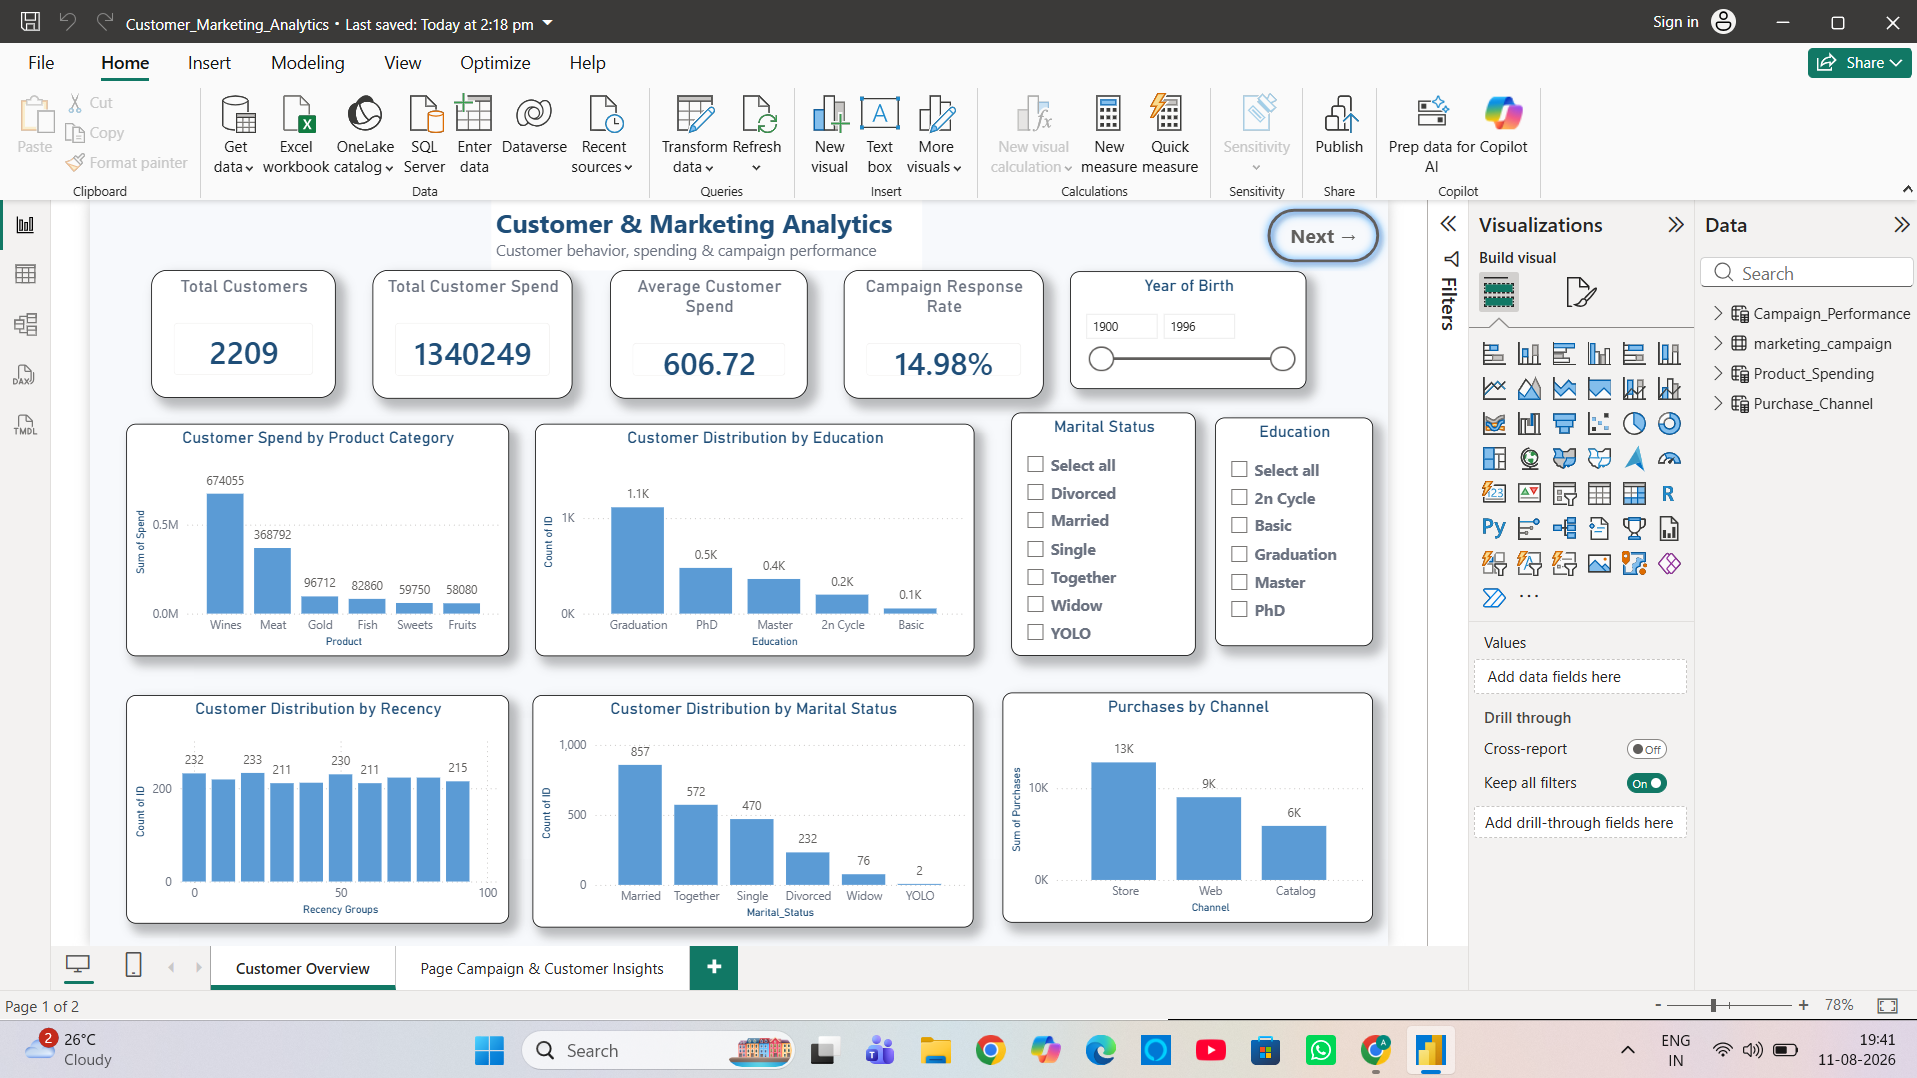

This screenshot's page, from the dashboard's own definition file:
{"tool":"powerbi","page":{"name":"Customer Overview","canvas":[1340,770],"ordinal":0},"visuals":[{"type":"textbox","box":[413.6,0,444.9,72.5],"z":0},{"type":"cardVisual","title":"Total Customers","fields":{"Data":["marketing_campaign.Total Customers"]},"box":[62.6,72.5,190.4,131.9],"z":1000},{"type":"cardVisual","title":"Average Customer Spend","fields":{"Data":["marketing_campaign.Average Customer Spend"]},"box":[537.2,72.5,204,133.1],"z":2000},{"type":"cardVisual","title":"Total Customer Spend","fields":{"Data":["marketing_campaign.Total Customer Spend"]},"box":[291.7,72.5,206.5,133.1],"z":3000},{"type":"cardVisual","title":"Campaign Response Rate","fields":{"Data":["marketing_campaign.Campaign Response Rate"]},"box":[777.8,72.5,206.5,133.1],"z":4000},{"type":"clusteredColumnChart","title":"Customer Spend by Product Category","fields":{"Category":["Product_Spending.Product"],"Y":["Sum(Product_Spending.Spend)"]},"box":[38,231.2,395,239.8],"z":5000},{"type":"clusteredColumnChart","title":"Customer Distribution by Education","fields":{"Category":["marketing_campaign.Education"],"Y":["CountNonNull(marketing_campaign.ID)"]},"box":[458.9,231.2,453.7,239.8],"z":6000},{"type":"clusteredColumnChart","title":"Customer Distribution by Marital Status","fields":{"Category":["marketing_campaign.Marital_Status"],"Y":["CountNonNull(marketing_campaign.ID)"]},"box":[457.1,510.6,455.4,239.8],"z":7000},{"type":"clusteredColumnChart","title":"Purchases by Channel","fields":{"Category":["Purchase_Channel.Channel"],"Y":["Sum(Purchase_Channel.Purchases)"]},"box":[941.9,508.9,382.3,237.3],"z":8000},{"type":"clusteredColumnChart","title":"Customer Distribution by Recency","fields":{"Y":["CountNonNull(marketing_campaign.ID)"],"Category":["marketing_campaign.Recency Groups"]},"box":[38,510.6,395,236.3],"z":9000},{"type":"slicer","title":"Education","fields":{"Values":["marketing_campaign.Education"]},"box":[1160.9,224.3,163.1,235.6],"z":10000},{"type":"slicer","title":"Marital Status","fields":{"Values":["marketing_campaign.Marital_Status"]},"box":[950.5,219.1,190.8,251],"z":11000},{"type":"slicer","title":"Year of Birth","fields":{"Values":["marketing_campaign.Year_Birth"]},"box":[1011.7,73.3,244.3,121.4],"z":12000},{"type":"actionButton","box":[1206.7,0,133.3,73.3],"z":12001}]}

Visuals, with their boxes on the page's 1340x770 design canvas (x1, y1, x2, y2). These are canvas units, not pixel positions in the 1917x1078 screenshot, which may show the page scaled, cropped or inside an application window:
textbox: Rect(414, 0, 858, 72)
"Total Customers" cardVisual: Rect(63, 72, 253, 204)
"Average Customer Spend" cardVisual: Rect(537, 72, 741, 206)
"Total Customer Spend" cardVisual: Rect(292, 72, 498, 206)
"Campaign Response Rate" cardVisual: Rect(778, 72, 984, 206)
"Customer Spend by Product Category" clusteredColumnChart: Rect(38, 231, 433, 471)
"Customer Distribution by Education" clusteredColumnChart: Rect(459, 231, 913, 471)
"Customer Distribution by Marital Status" clusteredColumnChart: Rect(457, 511, 912, 750)
"Purchases by Channel" clusteredColumnChart: Rect(942, 509, 1324, 746)
"Customer Distribution by Recency" clusteredColumnChart: Rect(38, 511, 433, 747)
"Education" slicer: Rect(1161, 224, 1324, 460)
"Marital Status" slicer: Rect(950, 219, 1141, 470)
"Year of Birth" slicer: Rect(1012, 73, 1256, 195)
actionButton: Rect(1207, 0, 1340, 73)
